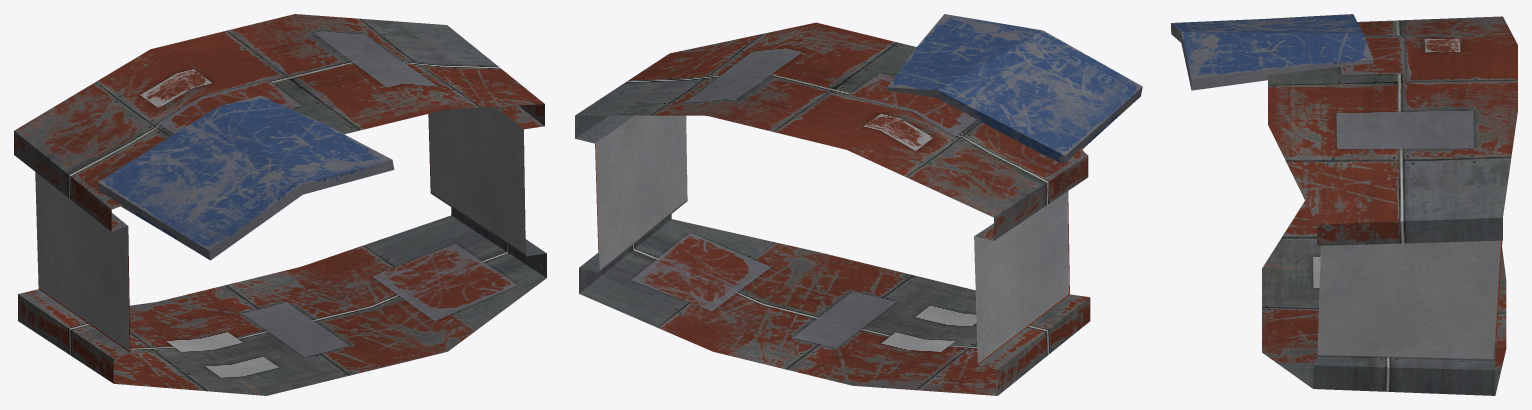
File: HCP7.fbx
3 views of the same model, side by side, from view 1: azimuth 30°, elevation 25°; view 2: azimuth 150°, elevation 25°; view 3: azimuth 270°, elevation 25° (orthographic). The views are drawn at different scales.
Visible parts, largest first — view 1: sevenD; view 2: sevenD; view 3: sevenD.
Part boxes in pixels (x1,y1,x2,y2): sevenD: (14, 14, 546, 395); sevenD: (575, 14, 1142, 395); sevenD: (1171, 14, 1517, 395).
Size of the model in its own units: 5948 by 3330 by 4333.
Materials: 1 (1 with a texture image).
